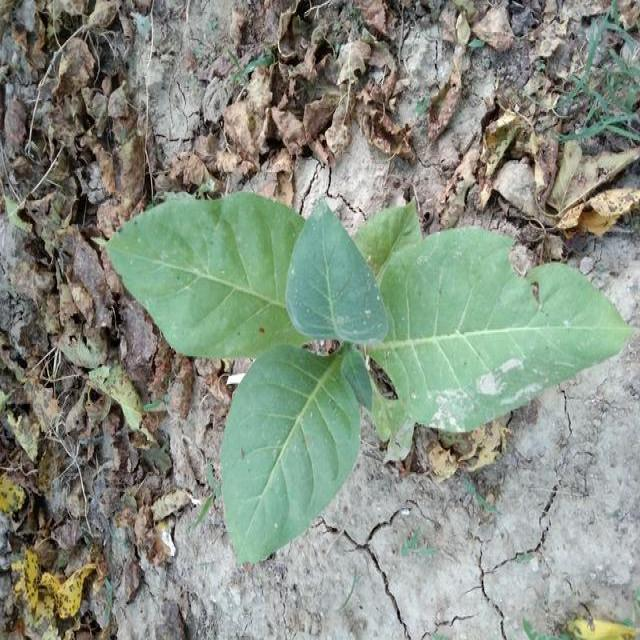crop: (105, 200, 624, 560)
